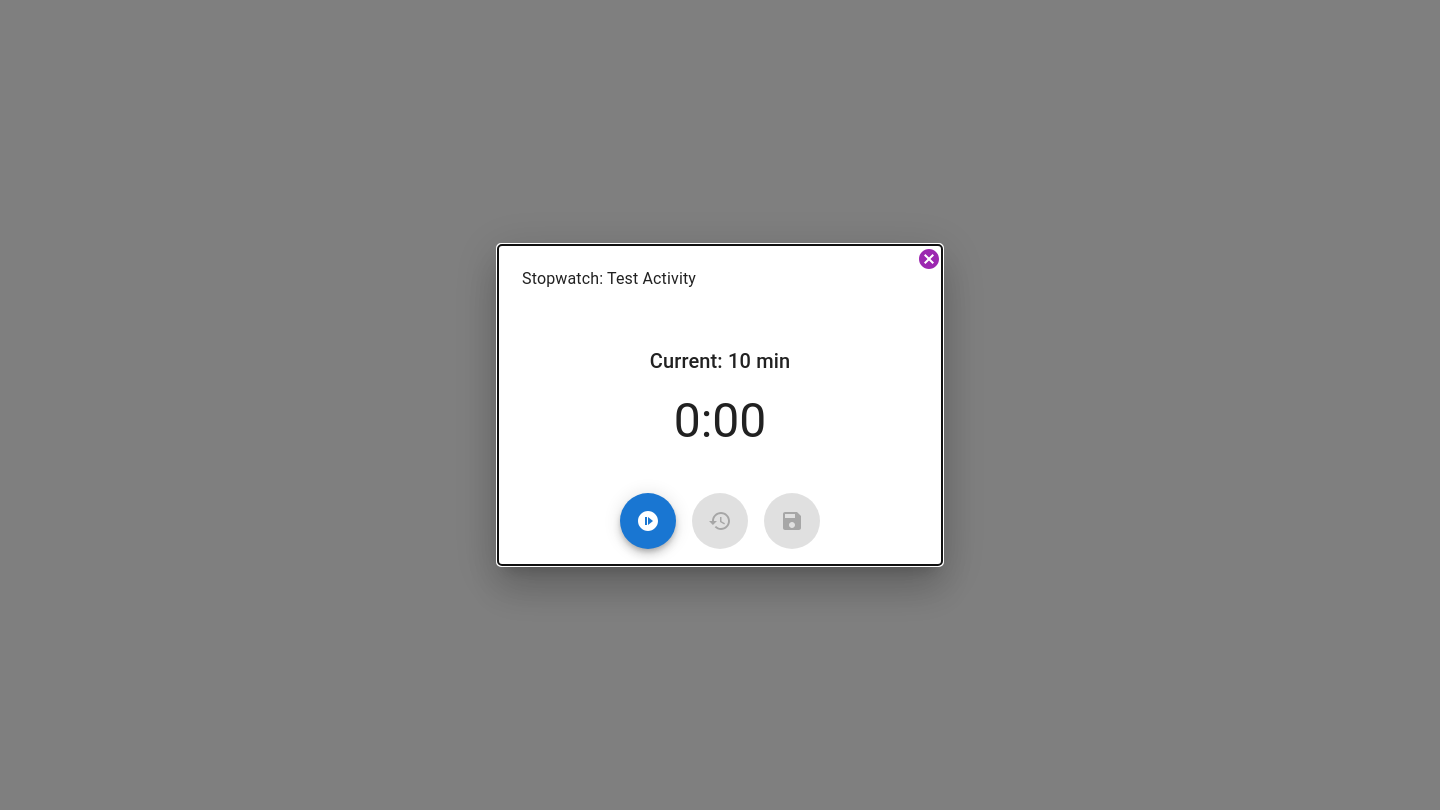
Test: StopWatchModal › resets the timer after confirmation
Click the button named "start". click: [648, 521]
box: [620, 493, 676, 549]
Wait 5000 ms
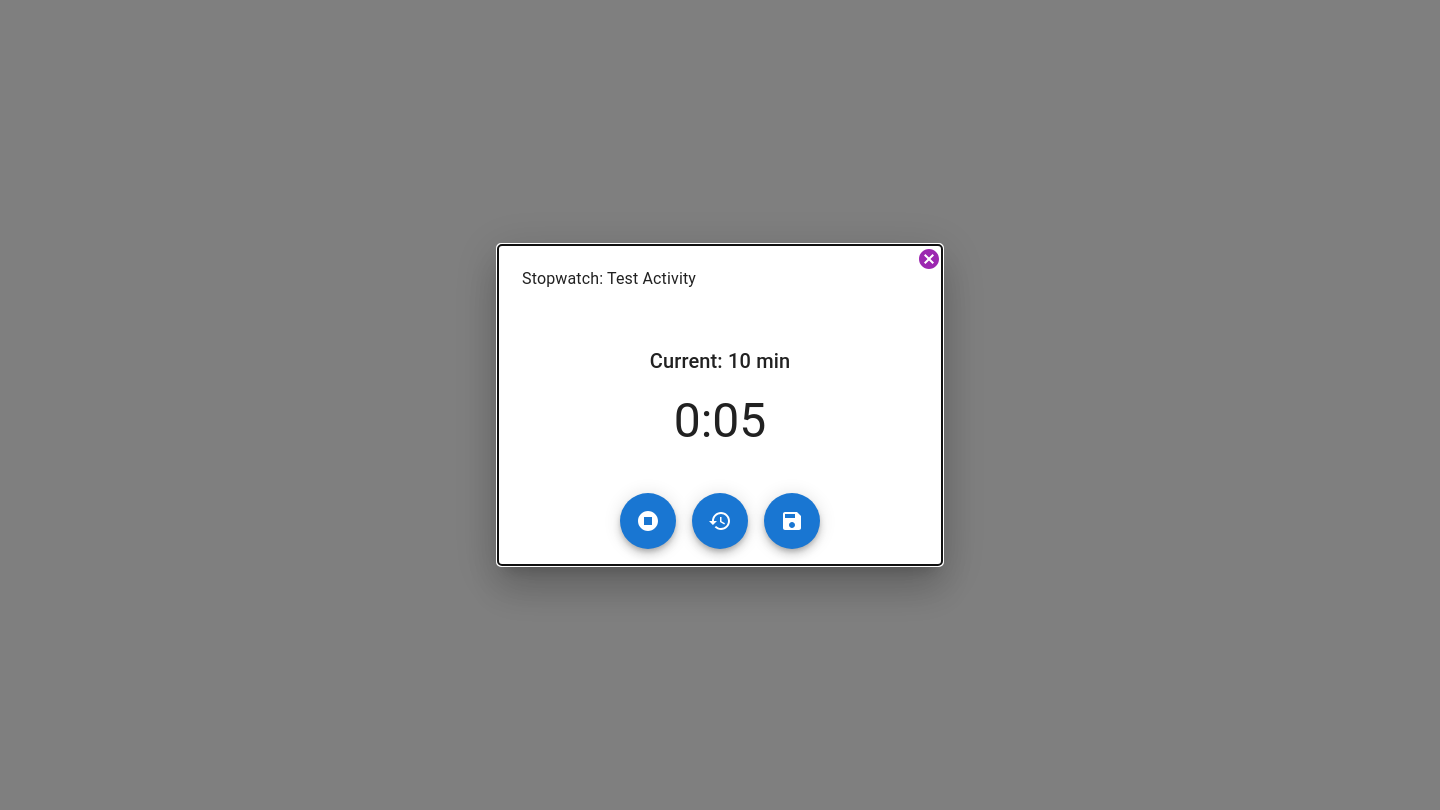
expect the heading "0:05" is shown: met, box [674, 392, 766, 449]
Click the button named "reset". click: [720, 521]
box: [692, 493, 748, 549]
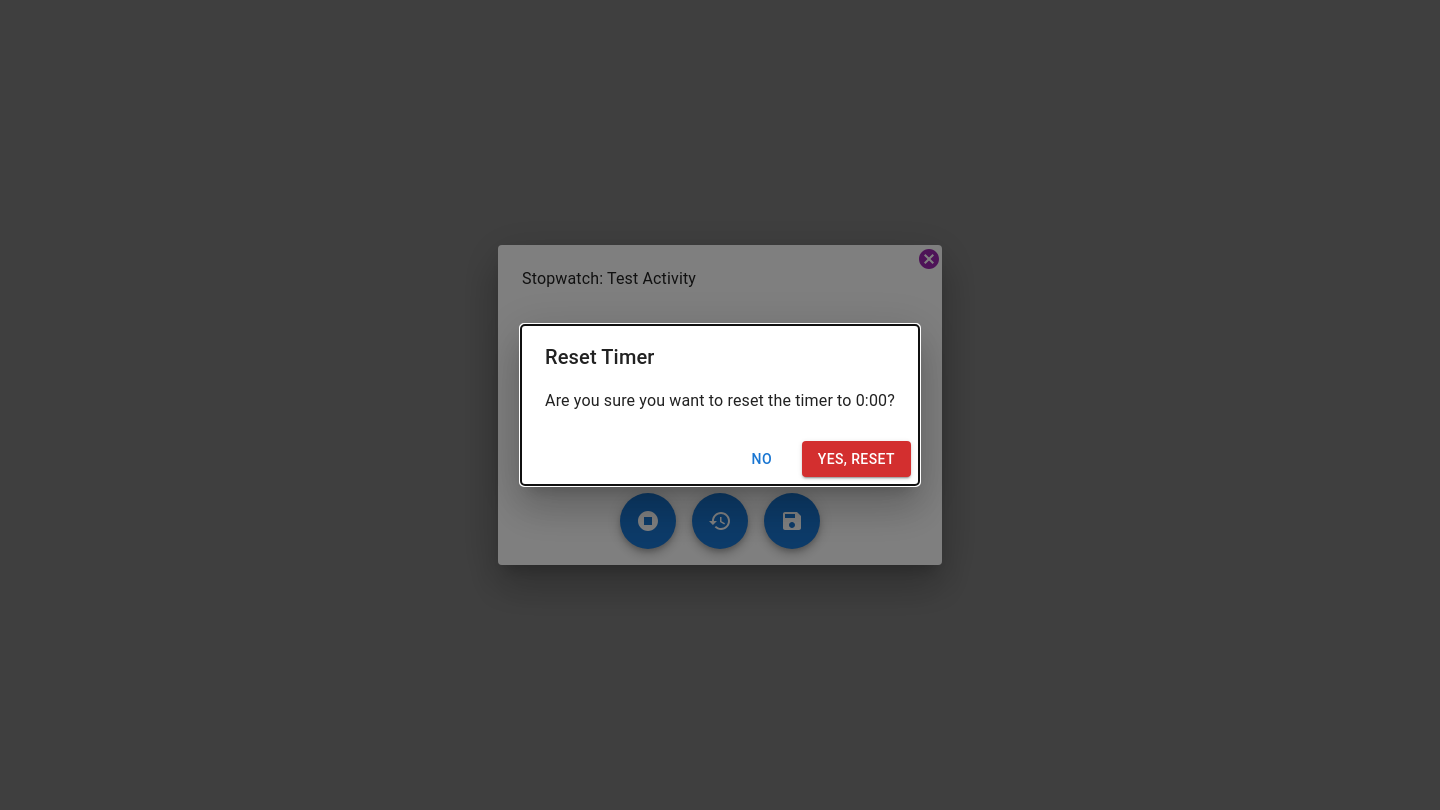
expect the text "Are you sure you want to reset the timer to 0:00?" is shown: met, box [545, 389, 895, 413]
Click the button "Yes, Reset". click: [856, 459]
box: [802, 441, 911, 477]
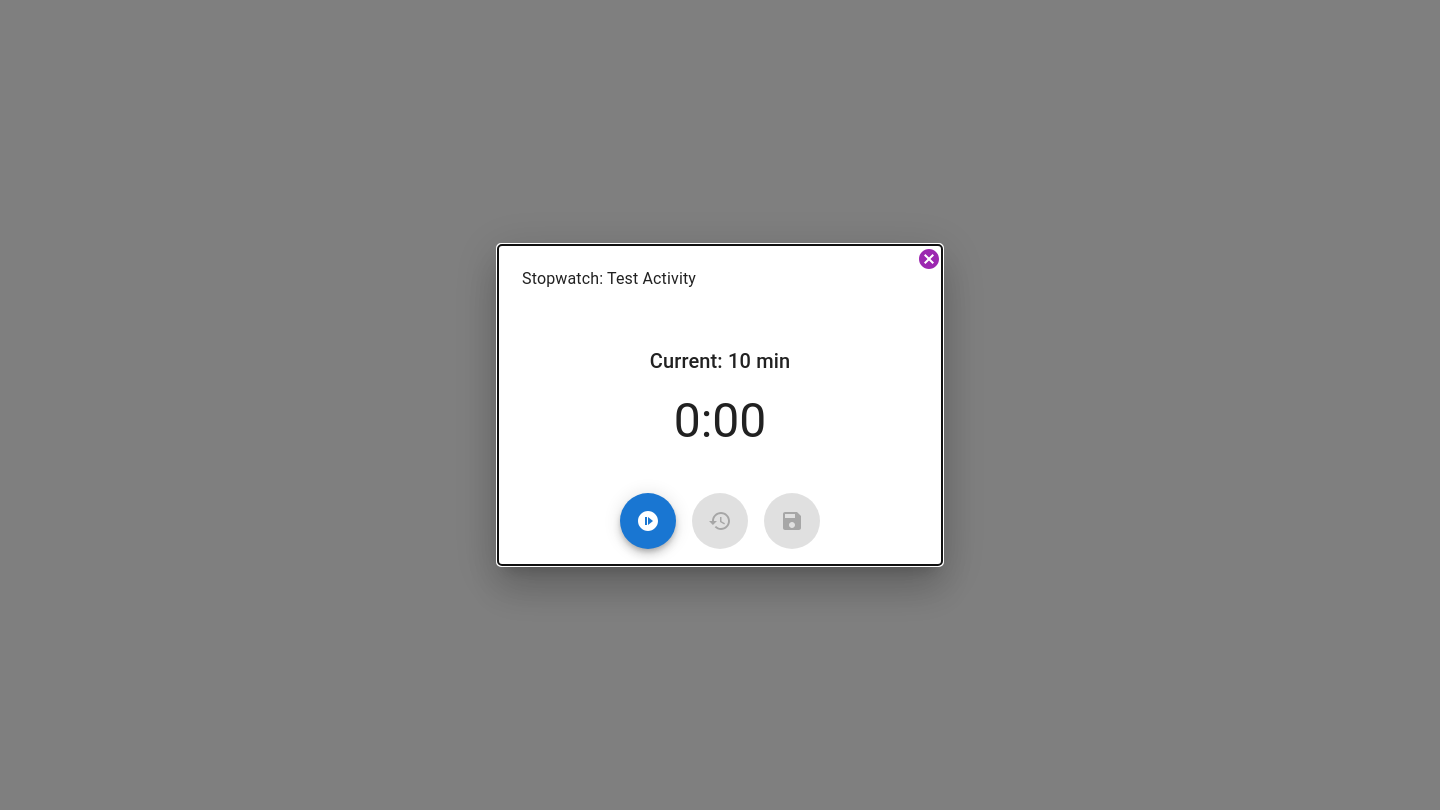
expect the heading "0:00" is shown: met, box [674, 392, 766, 449]
expect the button "Yes, Reset" is gone: met
